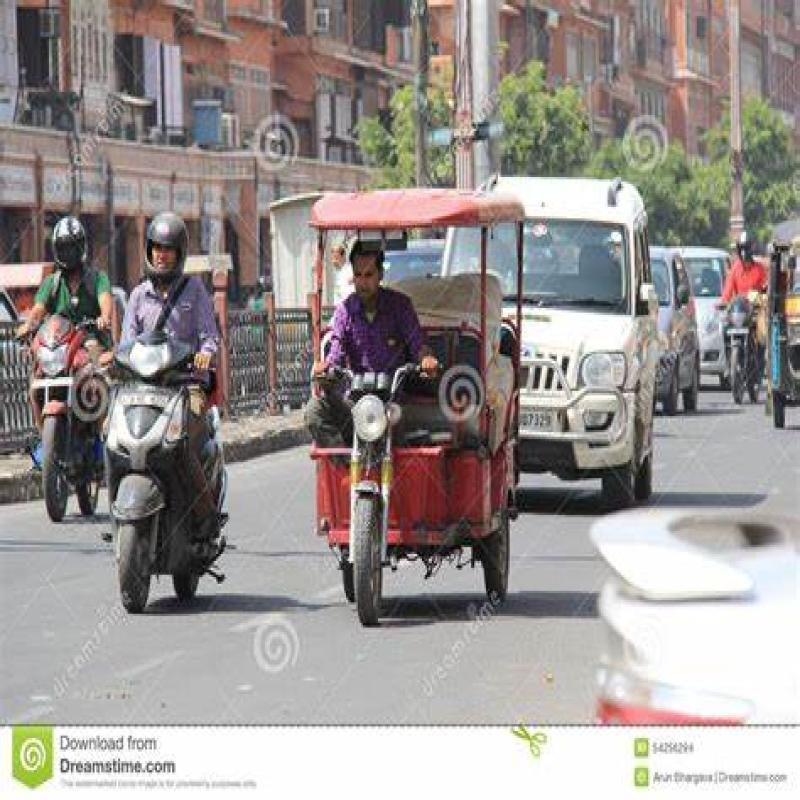car: (442, 159, 678, 505)
